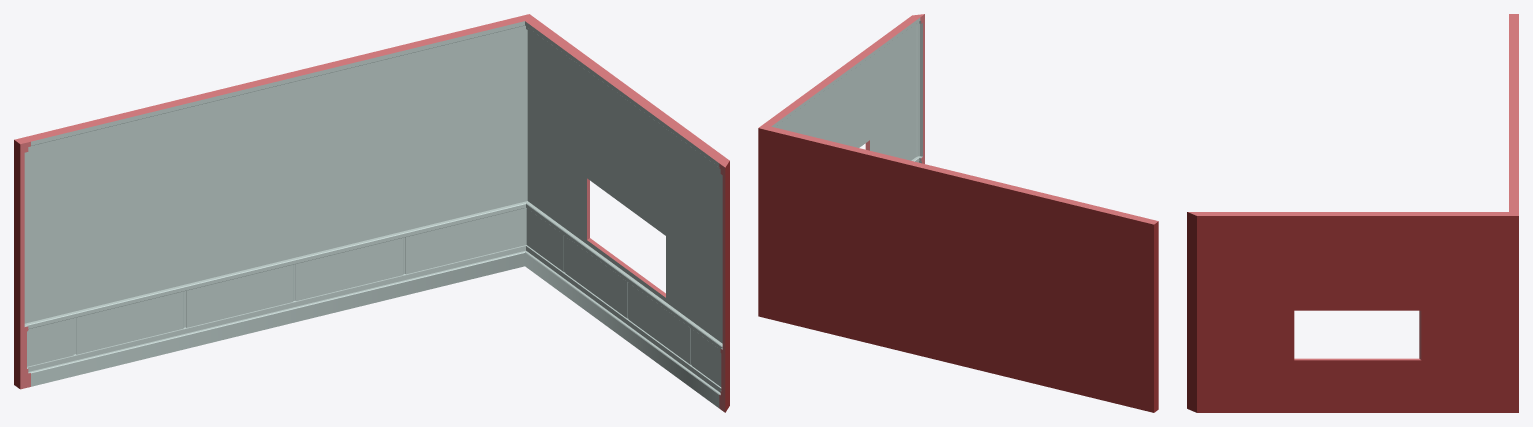
The model's file is Bathroom_Wall.fbx.
3 views of the same model, side by side, from view 1: azimuth 30°, elevation 25°; view 2: azimuth 150°, elevation 25°; view 3: azimuth 270°, elevation 25° (orthographic). The views are drawn at different scales.
Visible parts, largest first — view 1: polySurface297; view 2: polySurface297; view 3: polySurface297.
Boxes of the visible parts, x1=… form: polySurface297: x1=14, y1=14, x2=729, y2=412; polySurface297: x1=758, y1=14, x2=1158, y2=412; polySurface297: x1=1187, y1=14, x2=1518, y2=412.
Size of the model in its own units: 114 by 52 by 79.37.
